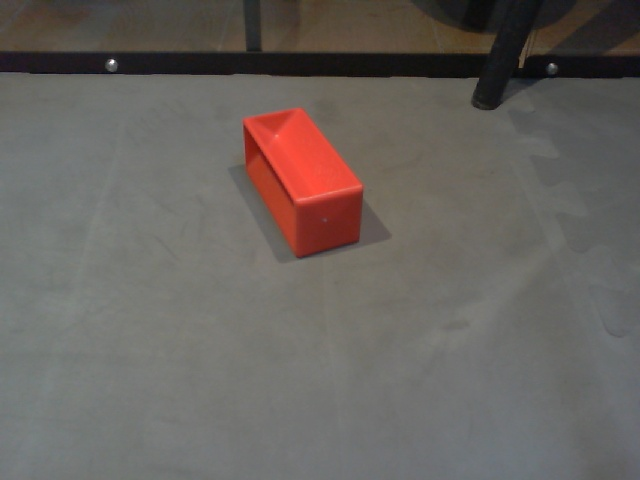RedSample: (241, 105, 364, 259)
